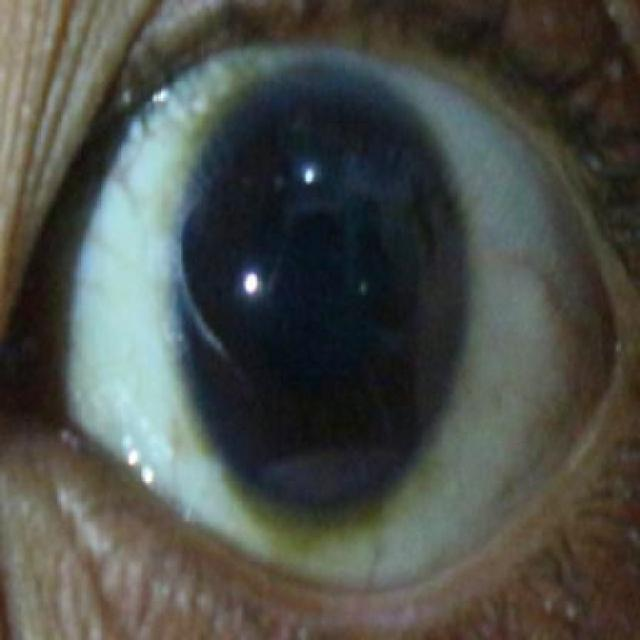Normal: (169, 63, 470, 516)
